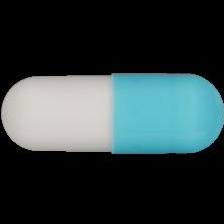63187-718: (0, 0, 224, 224)
